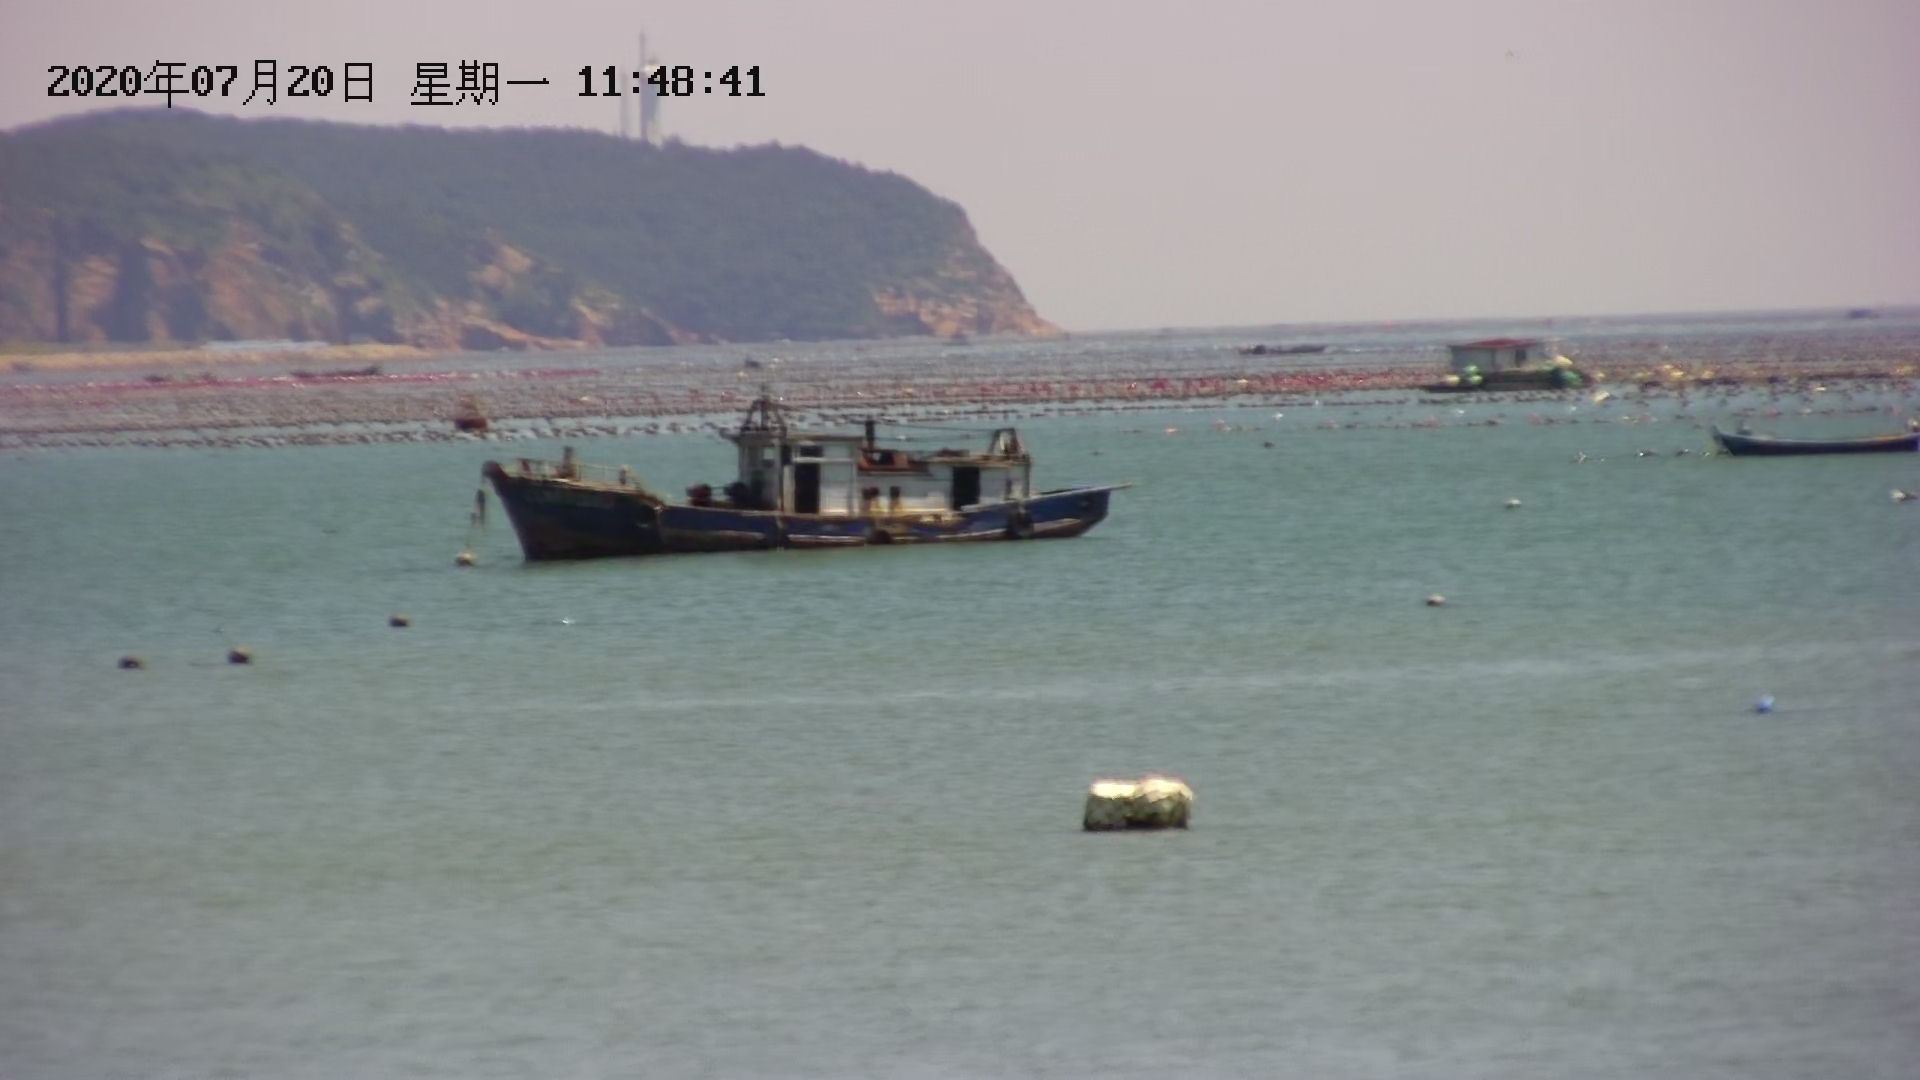boat: (1702, 411, 1920, 459)
platform: (1425, 328, 1606, 404)
rubbish: (1081, 767, 1199, 836)
ship: (473, 404, 1138, 558)
